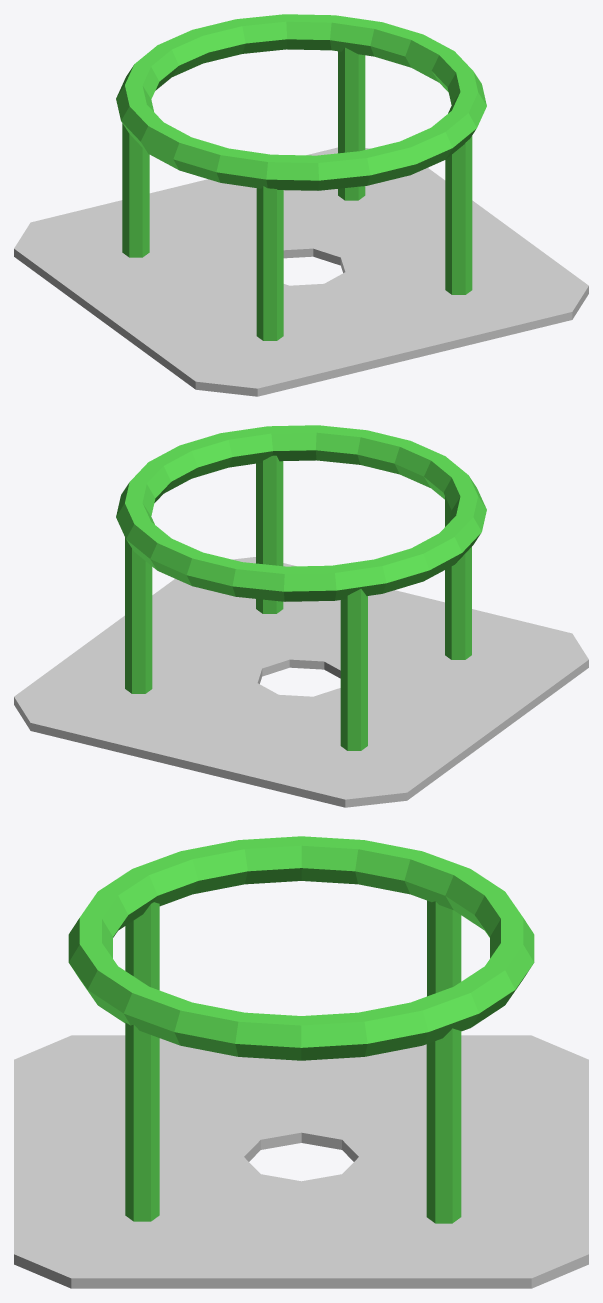
The model's file is HydroponicsBuilding.fbx.
The picture shows the model from 3 angles, top to bottom: view 1: azimuth 30°, elevation 25°; view 2: azimuth 150°, elevation 25°; view 3: azimuth 270°, elevation 25°; orthographic projection. The views are drawn at different scales.
Parts seen in each view (by area): view 1: Hydro; view 2: Hydro; view 3: Hydro.
Part boxes in pixels (bbox=[...]): Hydro: bbox=[14, 14, 588, 396]; Hydro: bbox=[14, 425, 588, 807]; Hydro: bbox=[14, 836, 588, 1288].
Bounding box in the file's own units: 10 × 10 × 4.53.
